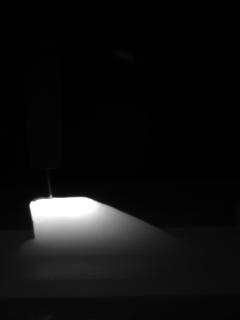tip_wire_left: (31, 163, 52, 198)
tip_wire_right: (50, 163, 60, 198)
